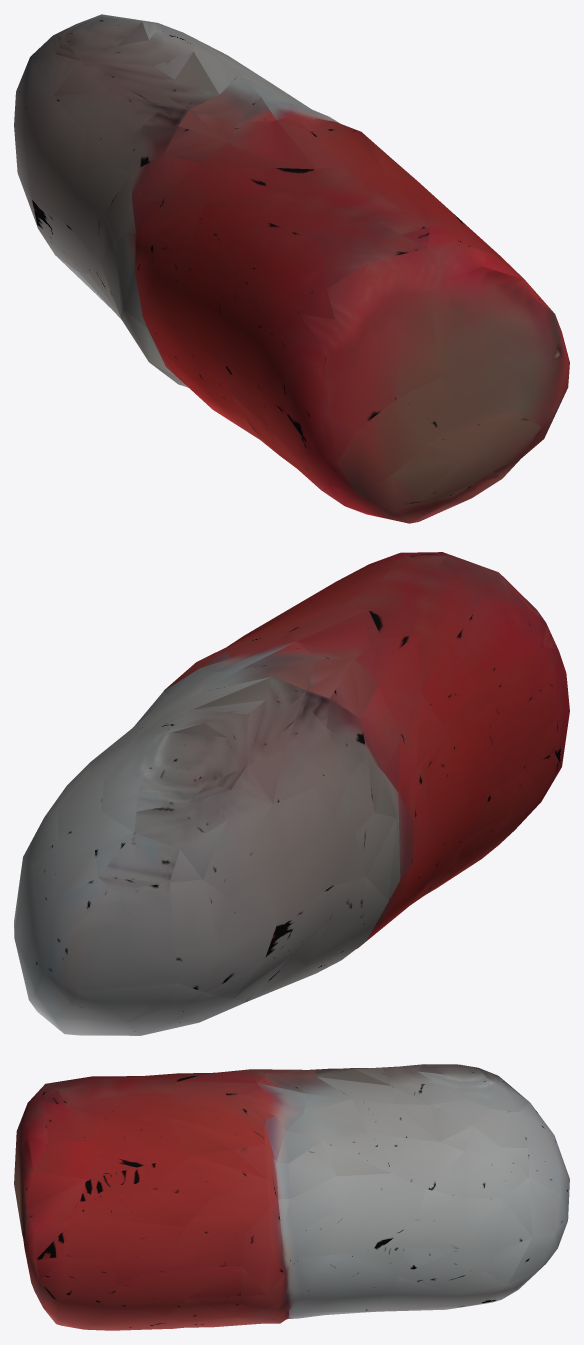
The model's file is medicine.glb.
3 renders of one model, top to bottom at view 1: azimuth 30°, elevation 25°; view 2: azimuth 150°, elevation 25°; view 3: azimuth 270°, elevation 25°, orthographic. The views are drawn at different scales.
Visible parts, largest first — view 1: mesh (9); view 2: mesh (9); view 3: mesh (9).
Part boxes in pixels (x1,y1,x2,y2): mesh (9): (14,14,569,523); mesh (9): (14,552,569,1035); mesh (9): (14,1064,569,1330).
Bounding box in the file's own units: 0.397 × 0.4323 × 0.9208.
1 material, 1 textured.
